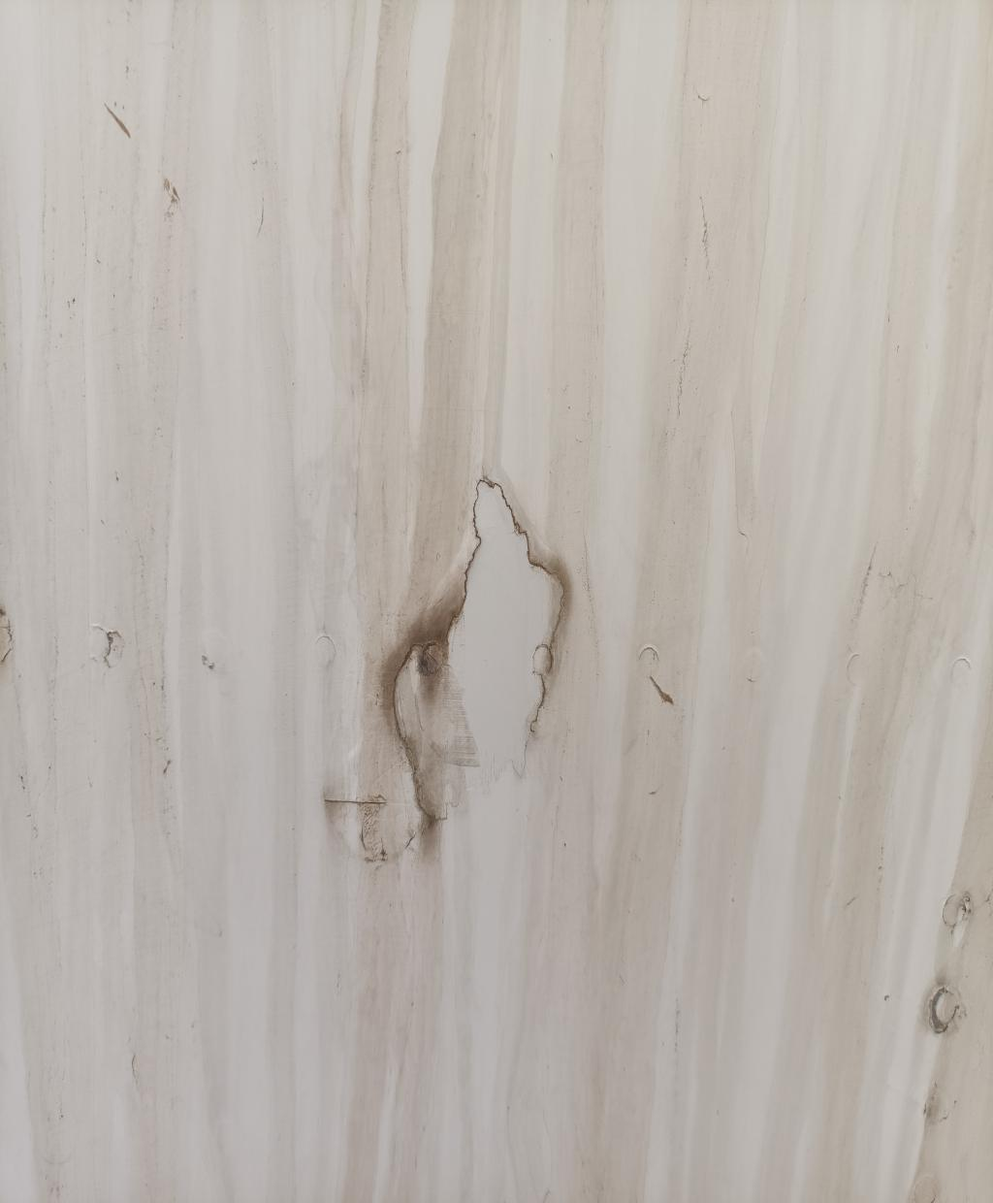corrosion: (383, 469, 584, 818)
